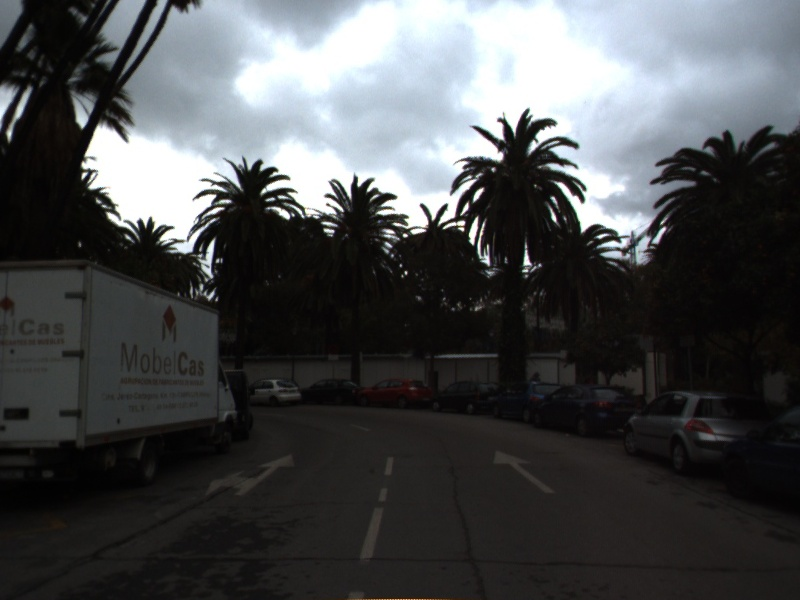STRAIGHT: (490, 448, 558, 495)
STRAIGHT_LEFT: (203, 452, 297, 498)
